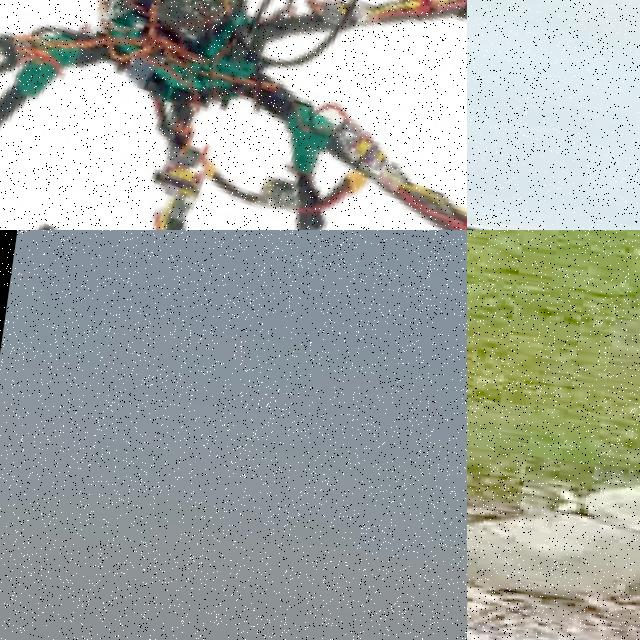drone: (0, 0, 467, 230)
